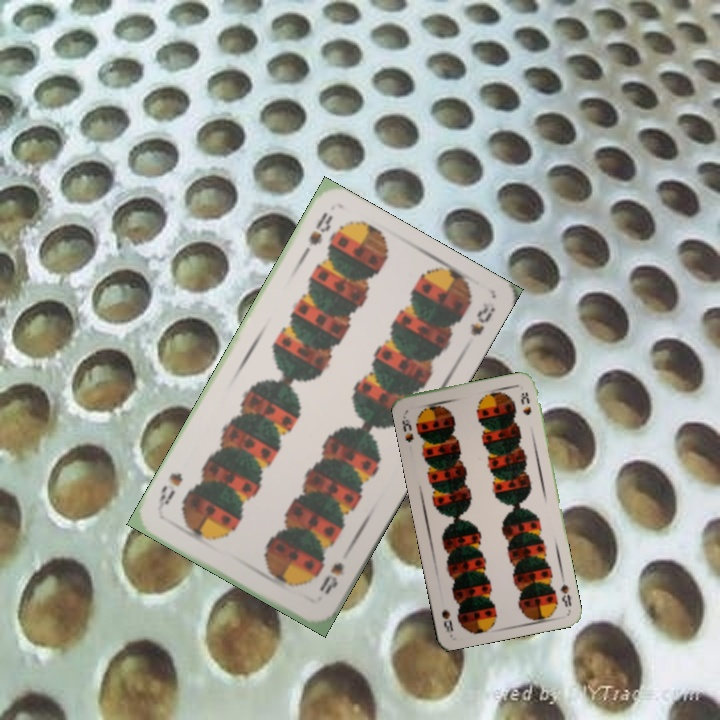S8: (297, 207, 336, 261), (315, 558, 347, 597), (556, 570, 574, 609), (398, 409, 416, 445)
